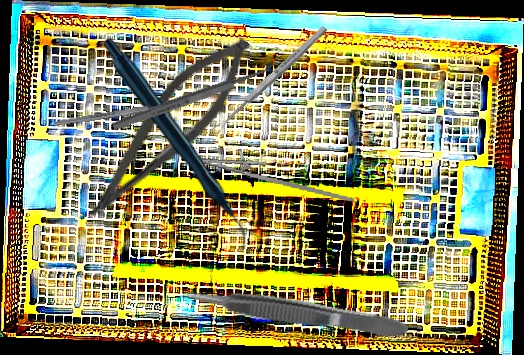Handpiece: (100, 37, 250, 251)
Micro Scissor: (75, 19, 265, 239)
Needle Holder: (183, 143, 359, 203)
Scalpel Handle: (53, 102, 168, 127)
Surgical Spoon: (211, 24, 329, 135), (111, 59, 285, 133)
Tissue Forceps: (178, 278, 410, 346)
